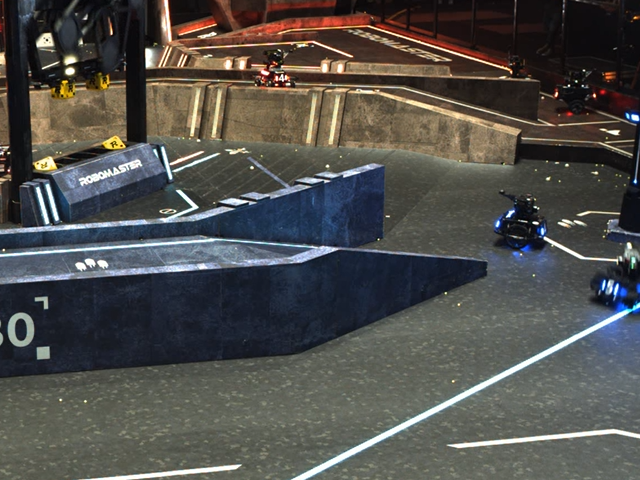rm: (489, 188, 552, 255), (591, 245, 640, 316), (554, 70, 604, 118), (255, 45, 298, 87), (497, 57, 533, 80)
